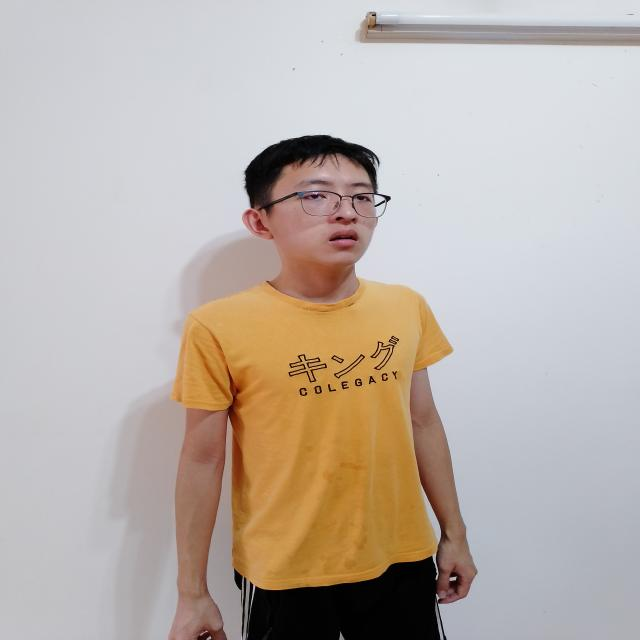person_without_labcoat: (169, 136, 474, 640)
